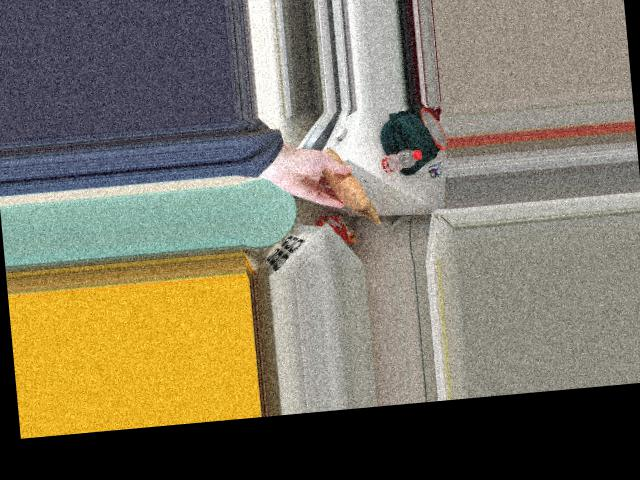sweet_potato: (325, 154, 365, 207)
